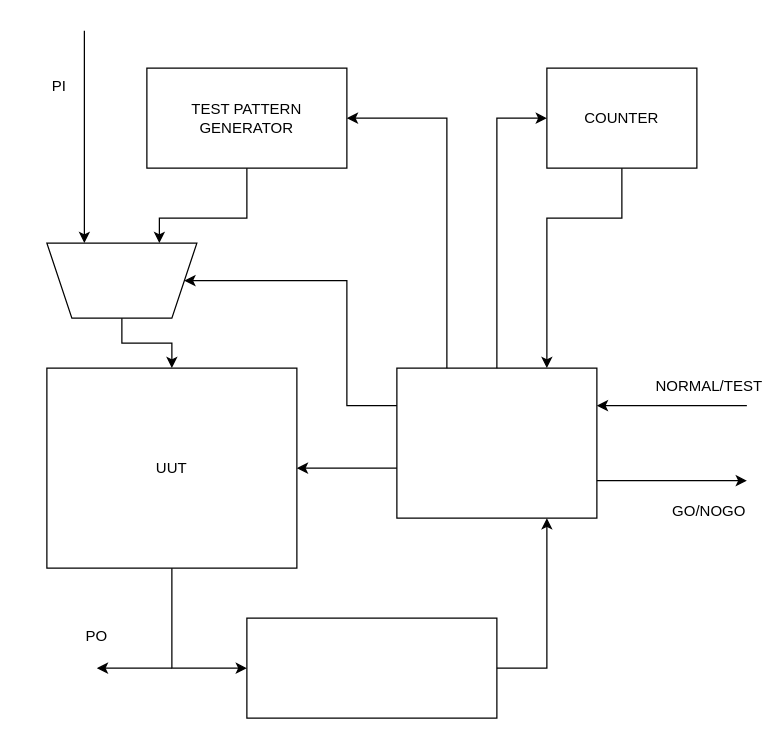
Image size: 784x740. Some labels were removed from this diagram. Here are the shapes that lost their labels. From the top down, the centre of each, then its label:
At point (496, 442): "BIST CONTROLLER".
At point (371, 667): "OUTPUT DATA EVALUATOR".
